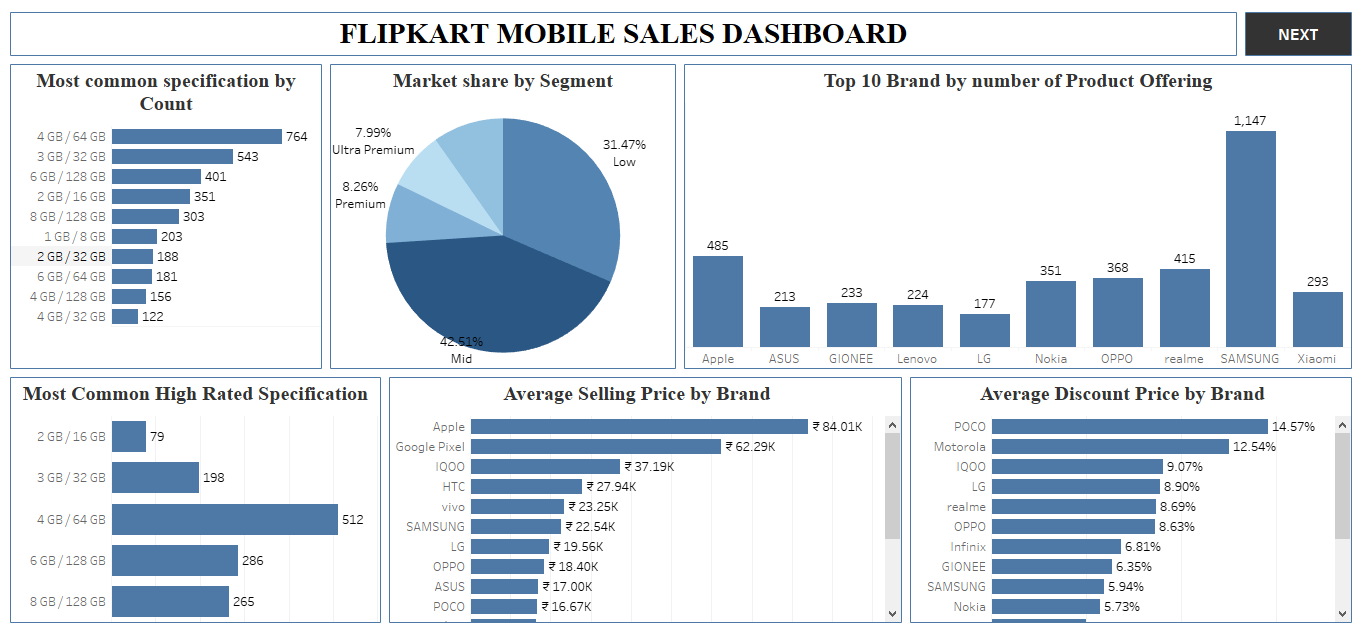

Layout of this report page (visuals, bound fields, positions):
{"tool":"tableau","page":{"name":"Dashboard 1","canvas":[1000,1000],"units":"permille","ordinal":0},"visuals":[{"type":"text","box":[6.9,14.5,902.1,81.5]},{"type":"dashboard-object","box":[909.1,14.5,84,81.5]},{"type":"worksheet","title":"Most common specification by Count","mark":"Automatic","rows":["Spec"],"cols":["Model"],"box":[6.9,96,277.1,490.9]},{"type":"worksheet","title":"segment vs count pie","mark":"Pie","box":[284,96,306.5,490.9]},{"type":"worksheet","title":"brand vs count","mark":"Automatic","rows":["Brand"],"cols":["Brand"],"box":[590.5,96,402.5,490.9]},{"type":"worksheet","title":"Most Common High Rated Specification","mark":"Automatic","rows":["Spec"],"cols":["Model"],"box":[6.9,586.9,277,398.6]},{"type":"worksheet","title":"Average Selling Price by Brand","mark":"Automatic","rows":["Brand"],"cols":["Selling_Price"],"box":[284,586.9,380.4,398.6]},{"type":"worksheet","title":"Average Discount Price by Brand","mark":"Automatic","rows":["Brand"],"cols":["Discount_%"],"box":[664.4,586.9,328.7,398.6]}]}

Visuals, with their boxes on the dashboard's canvas, which has no fixed pixel size, in thousandths of its width and height (x1, y1, x2, y2). These are canvas units, not pixel positions in the 1363x634 screenshot, which may show the page scaled, cropped or inside an application window:
text: Rect(7, 14, 909, 96)
dashboard-object: Rect(909, 14, 993, 96)
"Most common specification by Count" worksheet: Rect(7, 96, 284, 587)
"segment vs count pie" worksheet (Pie marks): Rect(284, 96, 590, 587)
"brand vs count" worksheet: Rect(590, 96, 993, 587)
"Most Common High Rated Specification" worksheet: Rect(7, 587, 284, 986)
"Average Selling Price by Brand" worksheet: Rect(284, 587, 664, 986)
"Average Discount Price by Brand" worksheet: Rect(664, 587, 993, 986)
